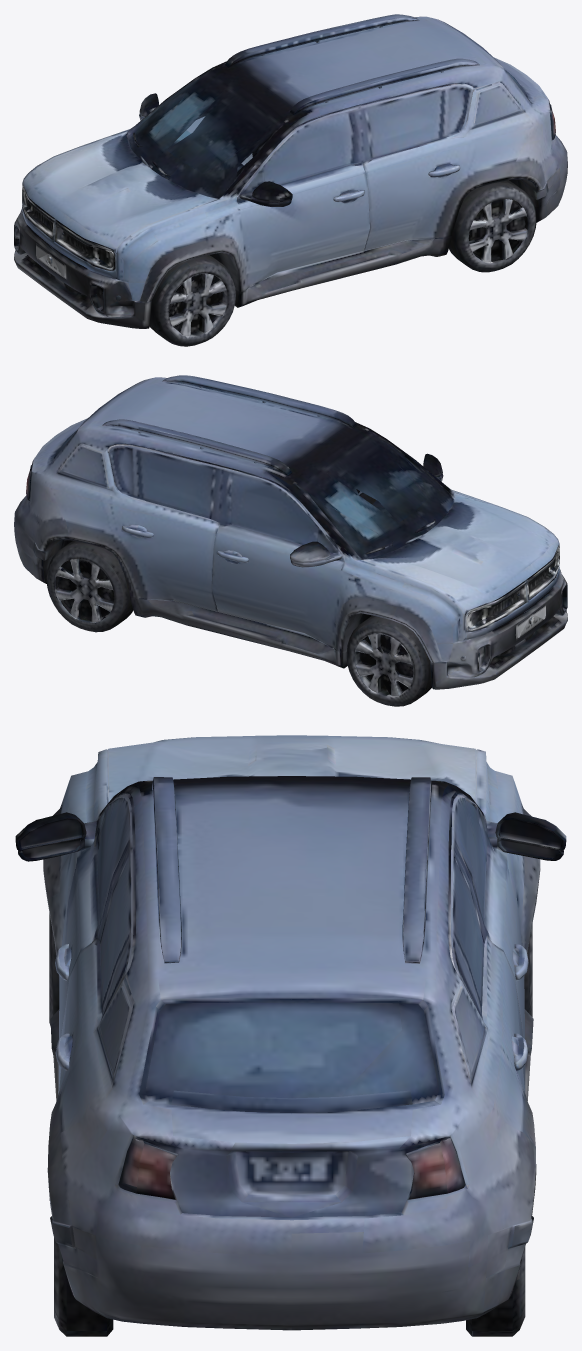
Rendered from 4Llowpoly.glb.
3 renders of one model, top to bottom at view 1: azimuth 30°, elevation 25°; view 2: azimuth 150°, elevation 25°; view 3: azimuth 270°, elevation 25°, orthographic. The views are drawn at different scales.
Visible parts, largest first — view 1: tripo_node_8fe84121-c6e7-40af-bdb5-ce51a89d1b36; view 2: tripo_node_8fe84121-c6e7-40af-bdb5-ce51a89d1b36; view 3: tripo_node_8fe84121-c6e7-40af-bdb5-ce51a89d1b36.
Part boxes in pixels (box(x1,y1,x2,y2)): tripo_node_8fe84121-c6e7-40af-bdb5-ce51a89d1b36: box(14, 14, 567, 346); tripo_node_8fe84121-c6e7-40af-bdb5-ce51a89d1b36: box(14, 375, 567, 706); tripo_node_8fe84121-c6e7-40af-bdb5-ce51a89d1b36: box(15, 735, 566, 1336).
Bounding box in the file's own units: 0.9995 × 0.3813 × 0.4849.
1 material, 1 textured.
